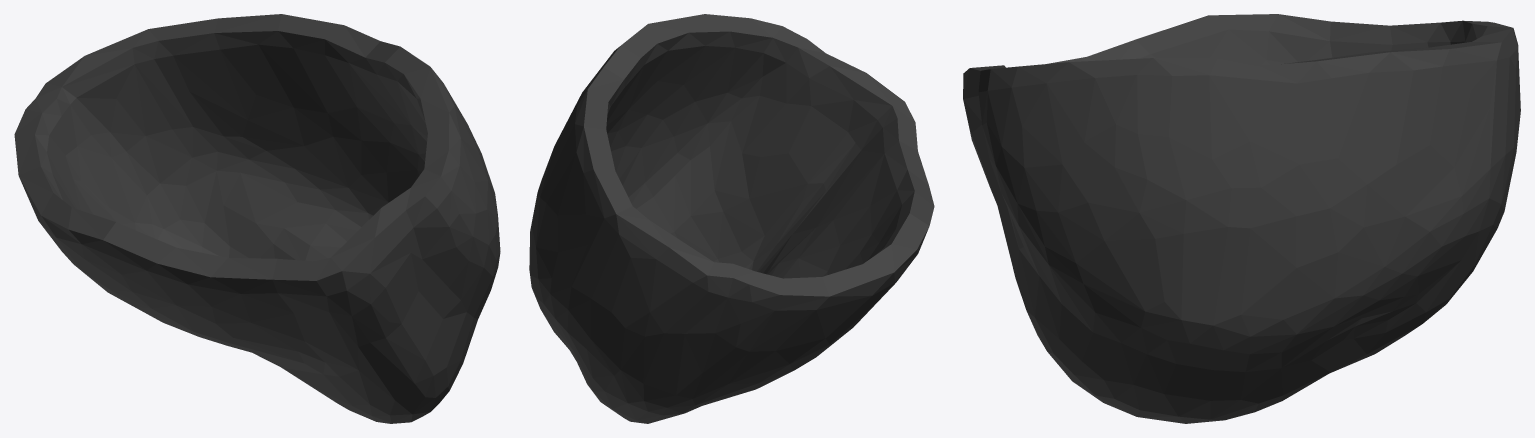
The model's file is Patella_base.glb.
The picture shows the model from 3 angles, left to right: view 1: azimuth 30°, elevation 25°; view 2: azimuth 150°, elevation 25°; view 3: azimuth 270°, elevation 25°; orthographic projection. The views are drawn at different scales.
Visible parts, largest first — view 1: Patella_base; view 2: Patella_base; view 3: Patella_base.
Boxes of the visible parts, x1,y1,x2,y2 form: Patella_base: (14, 14, 500, 423); Patella_base: (529, 14, 934, 423); Patella_base: (963, 14, 1520, 423).
Bounding box in the file's own units: 0.0168 × 0.0143 × 0.0189.
1 material, 1 textured.
